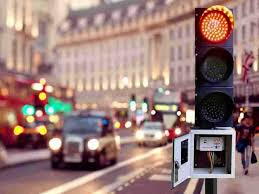signal: (197, 7, 233, 129)
